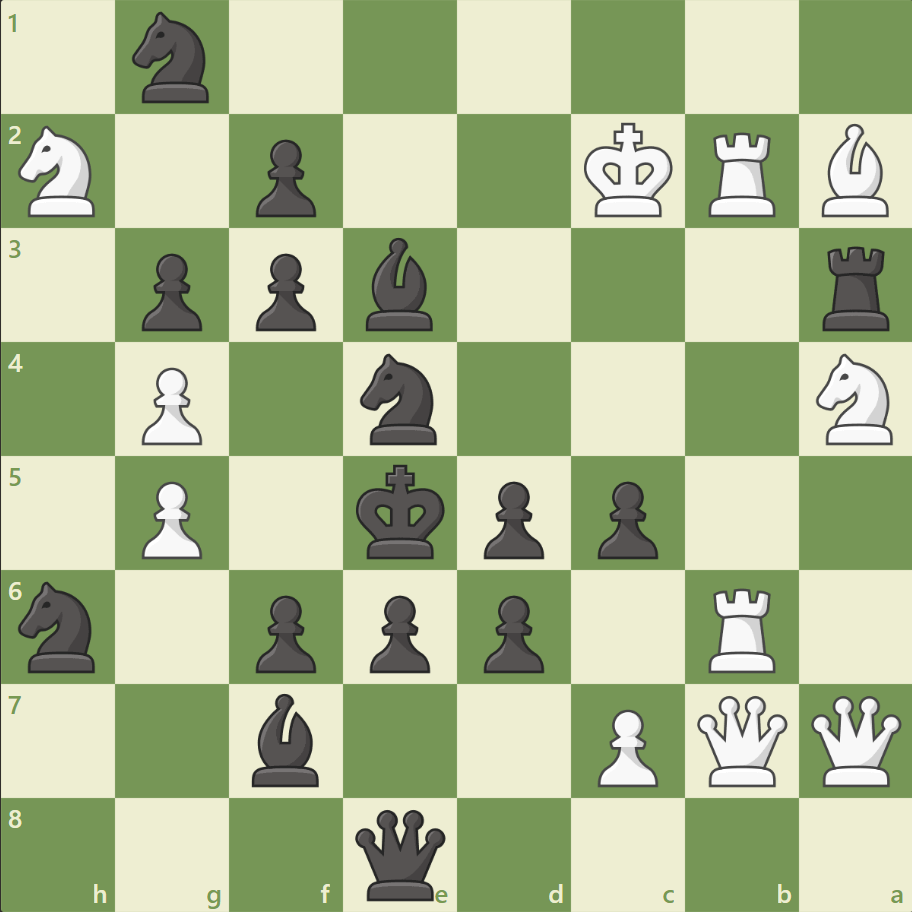B: (812, 120, 896, 222)
K: (579, 117, 679, 225)
N: (806, 348, 903, 450), (11, 121, 108, 223)
P: (133, 473, 208, 564), (133, 359, 208, 450), (588, 700, 662, 791)
Q: (805, 690, 904, 789), (691, 690, 790, 789)
R: (700, 579, 783, 676), (700, 125, 783, 222)
b: (244, 687, 328, 790), (358, 233, 442, 336)
k: (351, 458, 451, 566)
n: (124, 7, 222, 110), (351, 348, 449, 450), (11, 575, 108, 677)
p: (474, 586, 549, 677), (247, 586, 322, 677), (474, 473, 549, 564), (247, 246, 322, 337), (133, 246, 208, 337), (247, 132, 322, 223), (361, 586, 435, 677), (588, 473, 662, 564)
q: (351, 804, 450, 903)
r: (814, 239, 897, 336)
